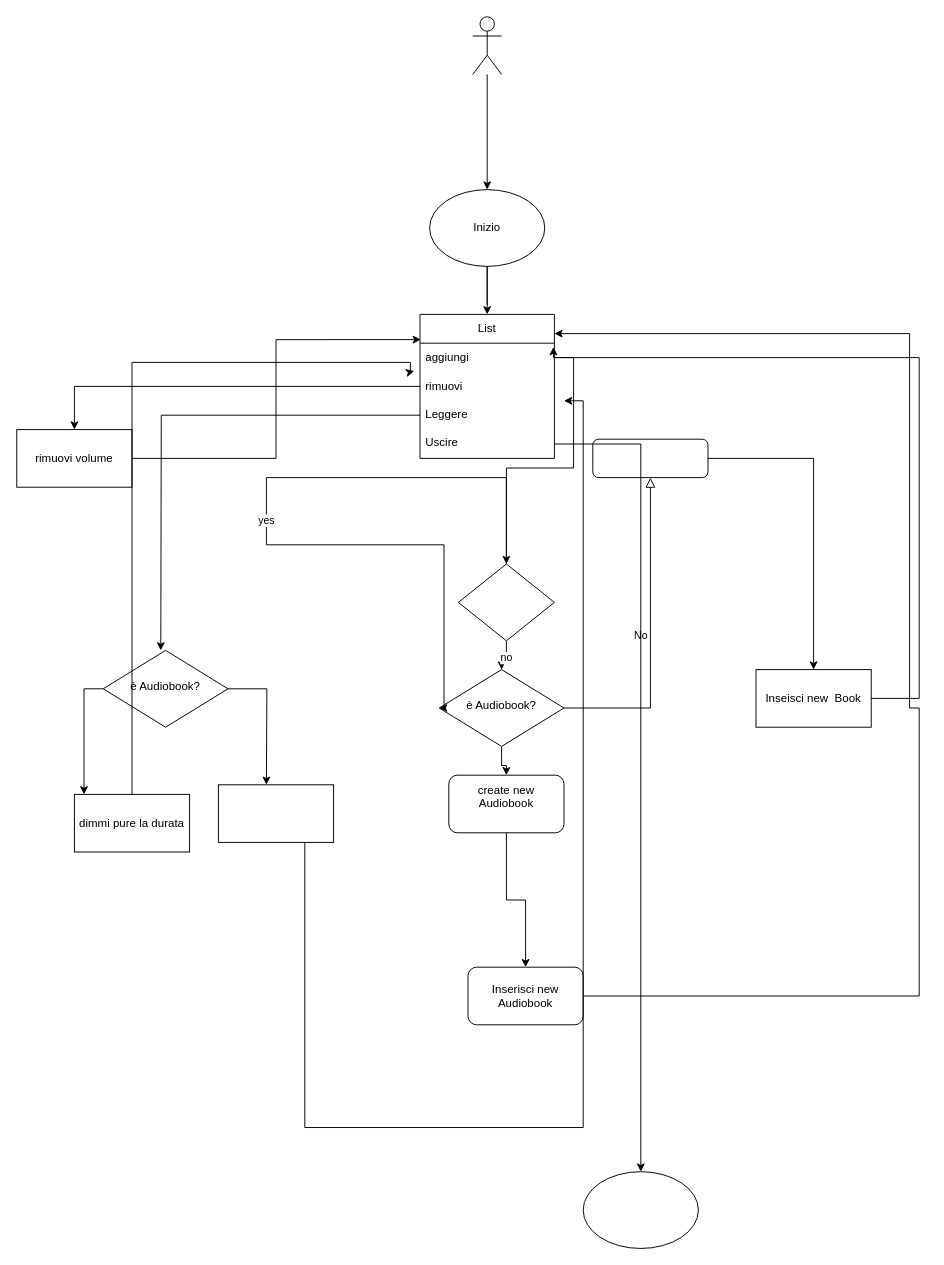
Image size: 944x1265. Some labels were removed from this diagram. The shapes that lost their labels are listed below. From the top down, each one's box as (x1, y1, x2, y2) in pixels, then its label:
(472, 16, 502, 74): Actor
(592, 438, 708, 478): create new Book
(457, 563, 554, 641): inserimento da file
(217, 784, 334, 842): dimmi solo titolo,autore,Id
(582, 1171, 698, 1248): esci
